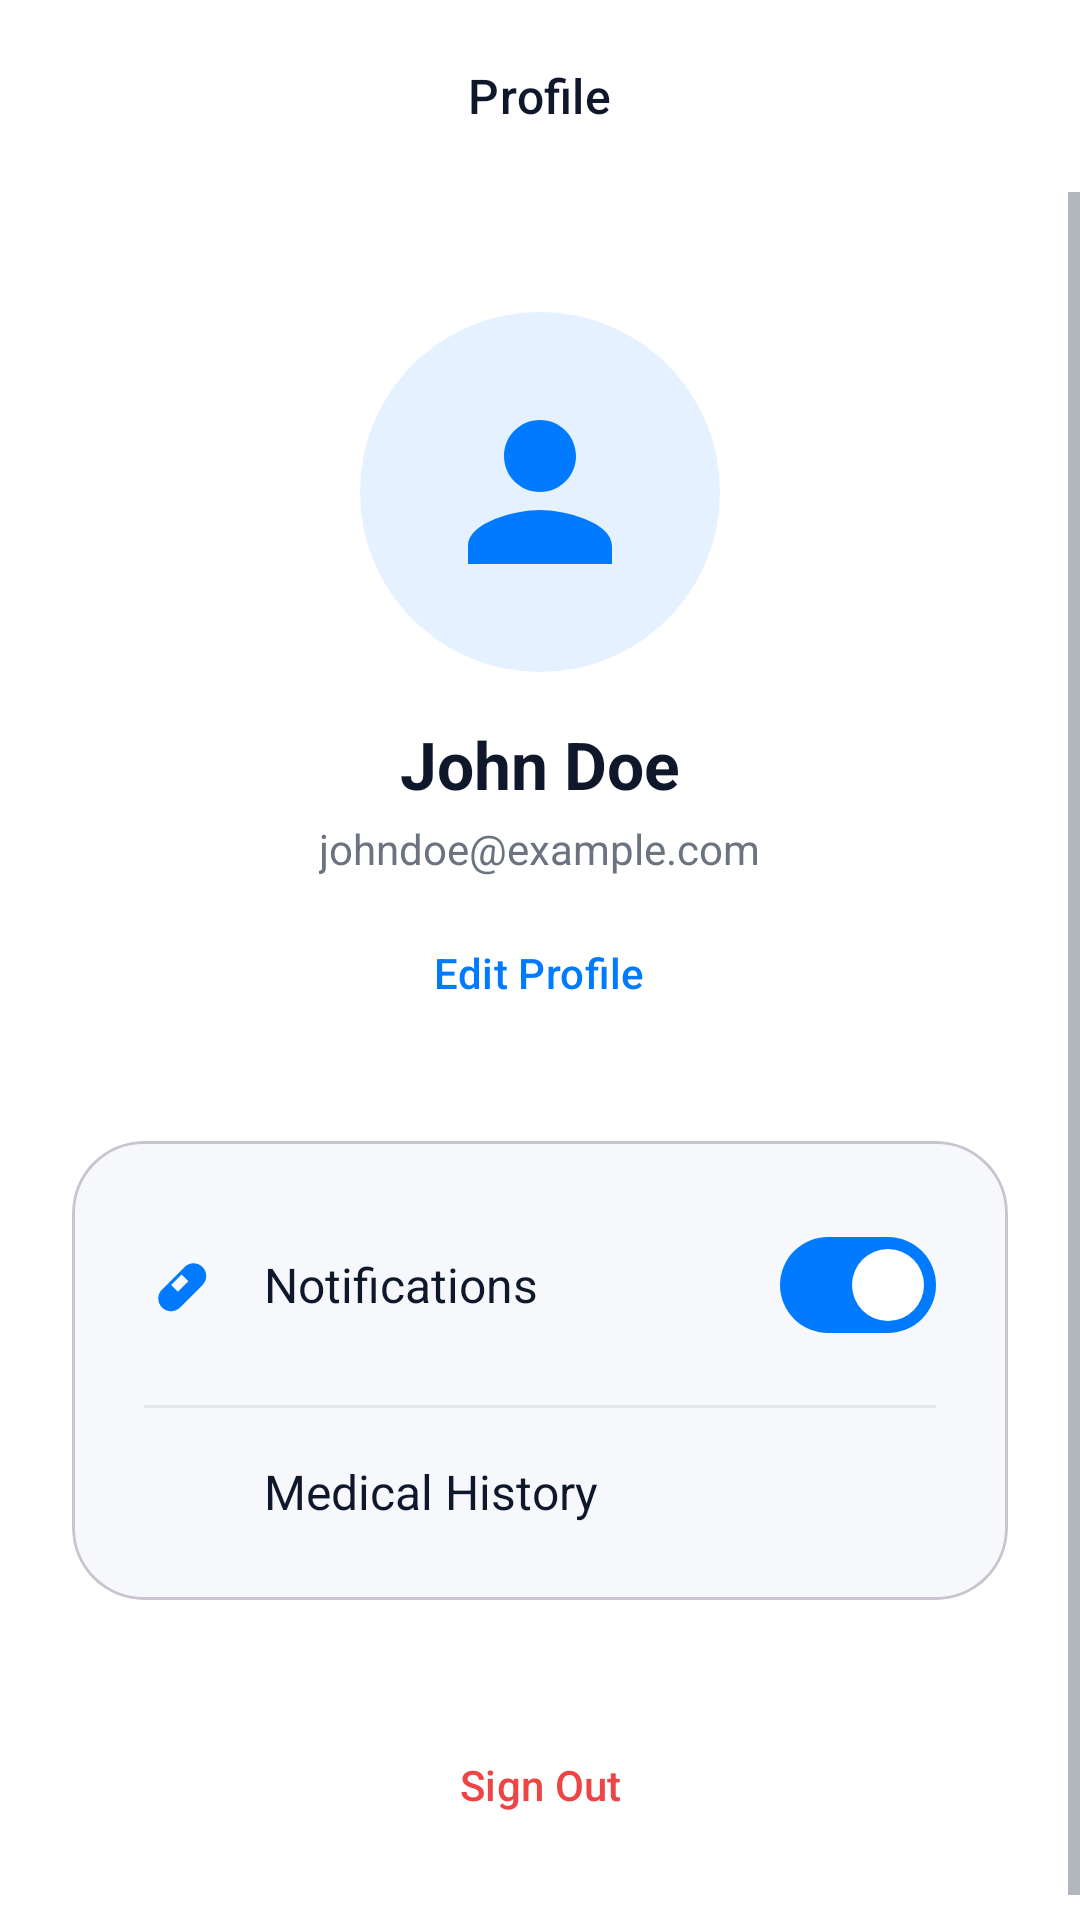

Icons on this 1080 x 1920 Android screen, each with the point to tap as (x=x, y=y):
medicine: (x=182, y=1287)
profile: (x=540, y=492)
